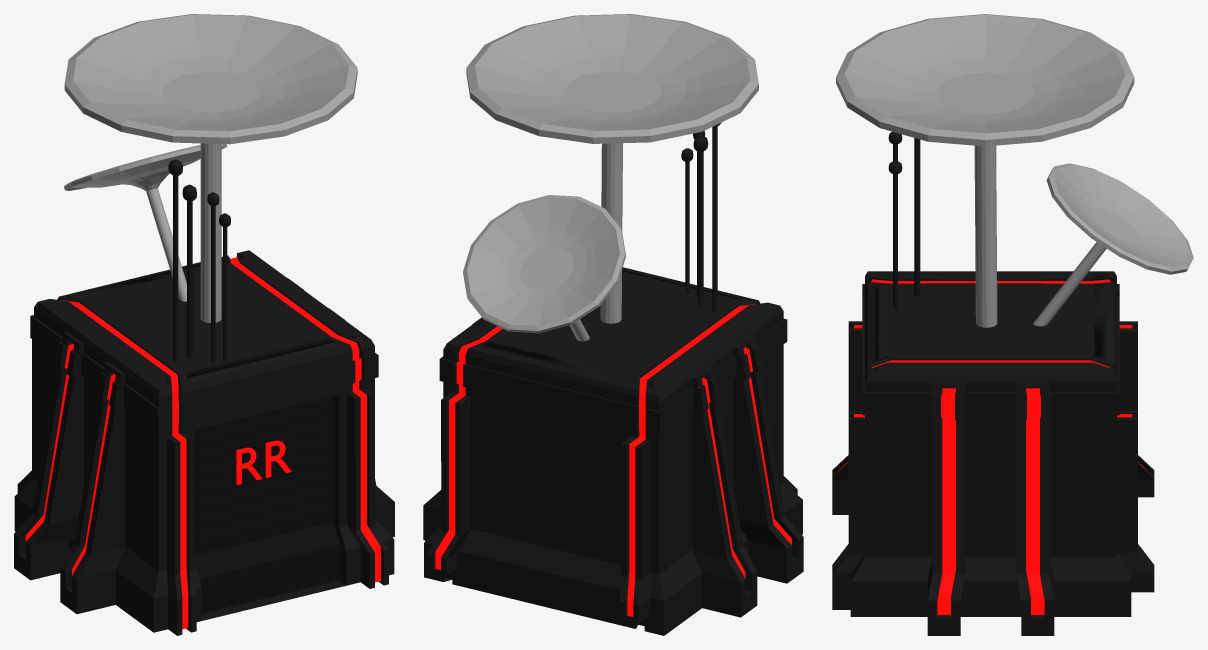
File: rover_research_facility.glb
The picture shows the model from 3 angles, left to right: view 1: azimuth 30°, elevation 25°; view 2: azimuth 150°, elevation 25°; view 3: azimuth 270°, elevation 25°; orthographic projection.
Parts seen in each view (by area): view 1: Rover_Research_Facility, Rover_Research_Facility_Lvl_2, Door, Wall_Light_002, Rover_Research_Facility_Lvl_1, Antenna_Large_002, Antenna_Small_001, Text_001, Antenna_Large_001, Antenna_Small; view 2: Rover_Research_Facility, Rover_Research_Facility_Lvl_2, Rover_Research_Facility_Lvl_1, Wall_Light_002, Antenna_Small_001, Antenna_Large_002, Antenna_Small; view 3: Rover_Research_Facility, Rover_Research_Facility_Lvl_2, Rover_Research_Facility_Lvl_1, Wall_Light_002, Antenna_Small_001, Antenna_Small.
Boxes of the visible parts, bbox=[...] form: Rover_Research_Facility: bbox=[14, 250, 394, 635]; Rover_Research_Facility_Lvl_2: bbox=[64, 14, 357, 322]; Door: bbox=[194, 397, 340, 613]; Wall_Light_002: bbox=[25, 257, 380, 629]; Rover_Research_Facility_Lvl_1: bbox=[64, 144, 227, 301]; Antenna_Large_002: bbox=[168, 159, 182, 361]; Antenna_Small_001: bbox=[182, 184, 196, 358]; Text_001: bbox=[236, 440, 291, 484]; Antenna_Large_001: bbox=[207, 192, 219, 363]; Antenna_Small: bbox=[219, 213, 230, 360]; Rover_Research_Facility: bbox=[423, 267, 803, 635]; Rover_Research_Facility_Lvl_2: bbox=[466, 14, 758, 323]; Rover_Research_Facility_Lvl_1: bbox=[463, 195, 625, 341]; Wall_Light_002: bbox=[435, 304, 791, 616]; Antenna_Small_001: bbox=[693, 135, 708, 308]; Antenna_Large_002: bbox=[712, 122, 721, 312]; Antenna_Small: bbox=[681, 148, 693, 294]; Rover_Research_Facility: bbox=[832, 271, 1154, 635]; Rover_Research_Facility_Lvl_2: bbox=[836, 14, 1134, 327]; Rover_Research_Facility_Lvl_1: bbox=[1033, 163, 1193, 326]; Wall_Light_002: bbox=[838, 279, 1147, 614]; Antenna_Small_001: bbox=[914, 138, 920, 296]; Antenna_Small: bbox=[888, 160, 902, 308].
Bounding box in the file's own units: 9.27 × 13.39 × 9.04.
